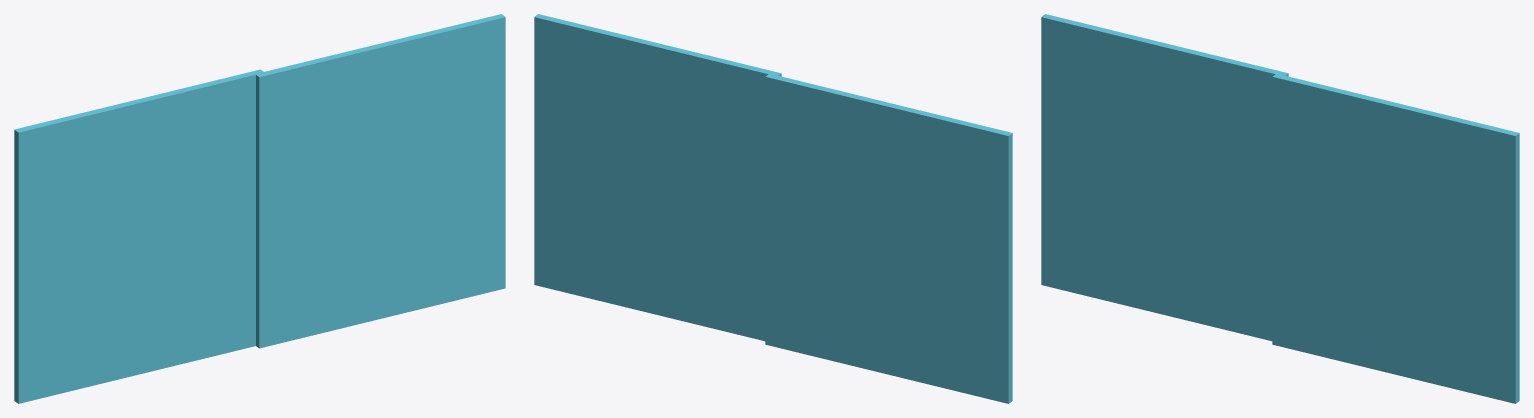
The model's file is Porta corredera vidre.fbx.
3 views of the same model, side by side, from view 1: azimuth 30°, elevation 25°; view 2: azimuth 150°, elevation 25°; view 3: azimuth 330°, elevation 25° (orthographic).
Parts seen in each view (by area): view 1: Cube.036, Cube.076; view 2: Cube.076, Cube.036; view 3: Cube.036, Cube.076.
Part boxes in pixels (x1,y1,x2,y2): Cube.036: (256,14,505,348); Cube.076: (14,69,264,403); Cube.076: (765,73,1012,403); Cube.036: (534,14,781,341); Cube.036: (1272,74,1519,403); Cube.076: (1041,14,1288,341).
Bounding box in the file's own units: 15.68 × 8.4 × 0.4303.
